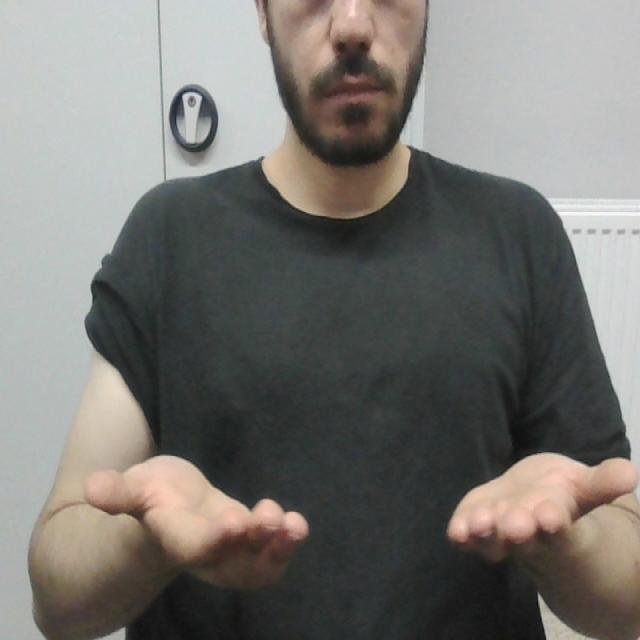Evet: (82, 447, 640, 600)
